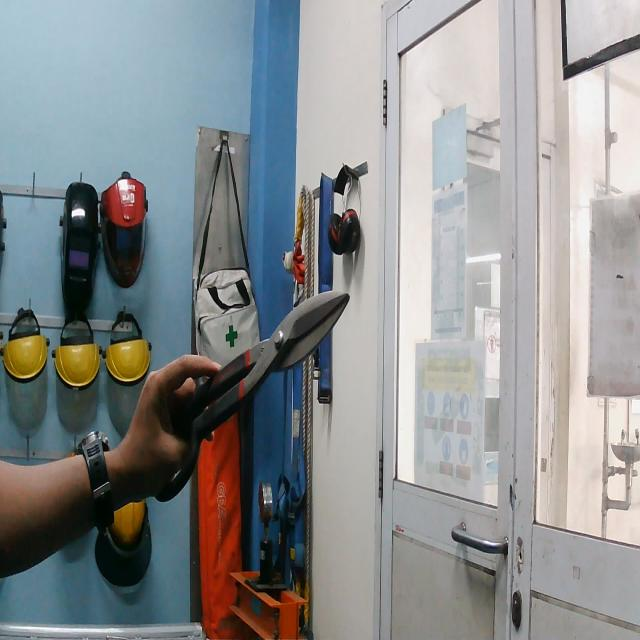gunting_plat: (124, 258, 362, 518)
